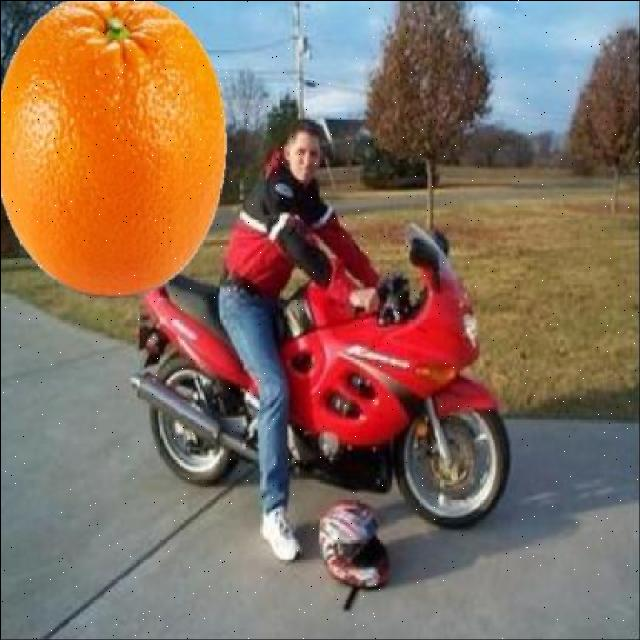Orange: (2, 2, 230, 300)
